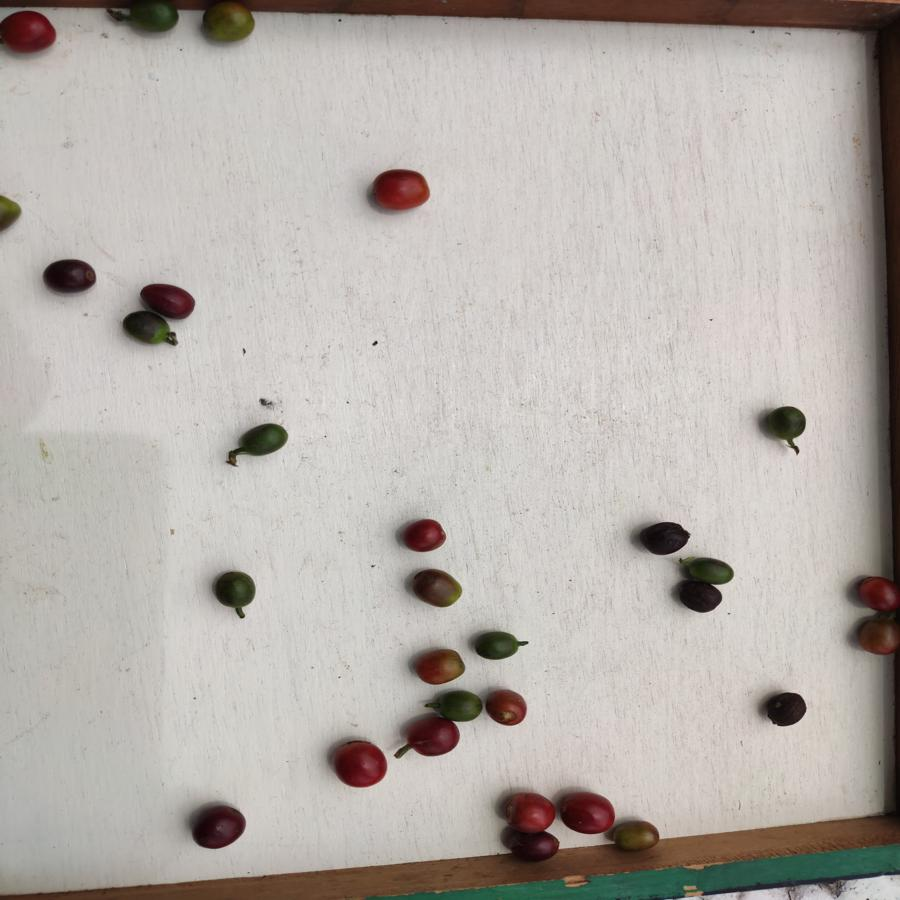Inmaduro: (116, 311, 184, 346), (240, 421, 291, 462), (762, 402, 811, 443), (682, 550, 735, 585), (211, 572, 256, 612), (431, 689, 481, 725), (471, 629, 522, 664), (128, 2, 178, 35)
Maduro: (330, 736, 390, 788), (370, 165, 432, 213), (1, 7, 58, 58), (499, 787, 558, 835), (483, 685, 533, 735), (857, 573, 900, 612)
Pinton: (201, 1, 260, 44), (411, 564, 467, 609), (413, 646, 464, 689), (857, 615, 900, 658), (613, 818, 660, 852)
Sobremaduro: (558, 788, 617, 839), (405, 717, 466, 761), (137, 277, 198, 319), (42, 257, 99, 297), (194, 805, 246, 848), (500, 828, 563, 861), (636, 520, 688, 556), (400, 516, 446, 555), (678, 580, 725, 618), (767, 691, 809, 731)
